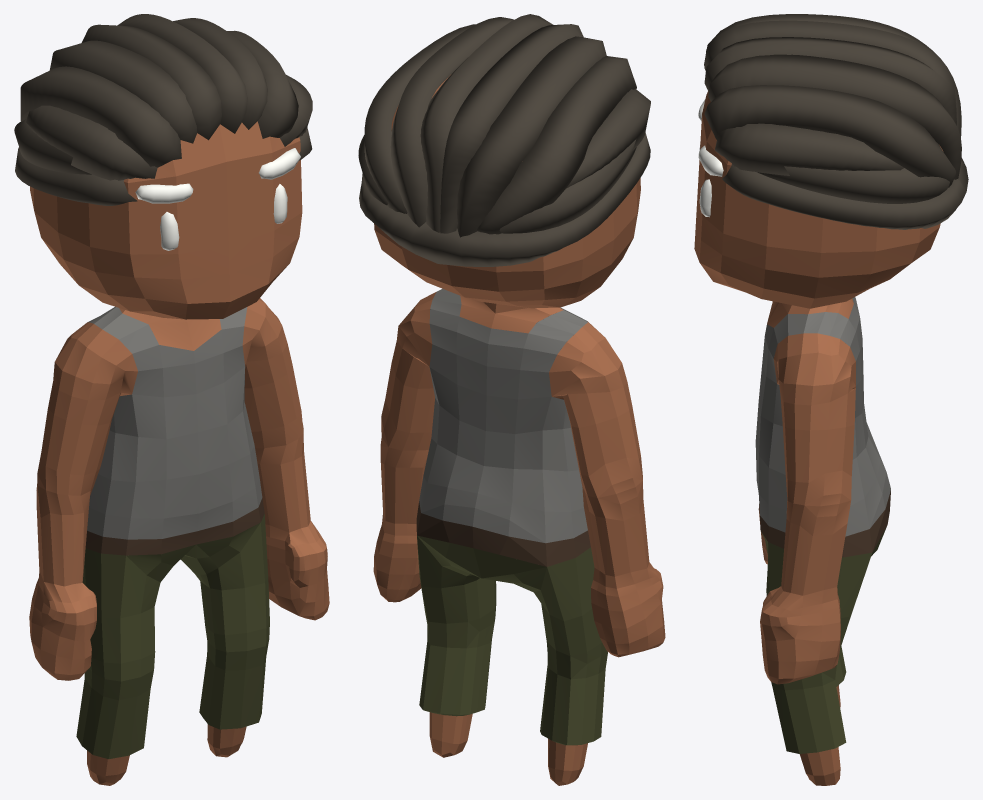
The model's file is debout-casual3-male.glb.
3 views of the same model, side by side, from view 1: azimuth 30°, elevation 25°; view 2: azimuth 150°, elevation 25°; view 3: azimuth 270°, elevation 25° (orthographic).
Visible parts, largest first — view 1: Cube004, Cube004_5, Cube004_1, Cube004_2, Cube004_3, Cube004_4; view 2: Cube004_5, Cube004, Cube004_1, Cube004_2, Cube004_3; view 3: Cube004_5, Cube004, Cube004_1, Cube004_2, Cube004_3, Cube004_4.
Boxes of the visible parts, x1,y1,x2,y2 form: Cube004: [29, 121, 329, 785]; Cube004_5: [14, 14, 312, 205]; Cube004_1: [87, 306, 262, 539]; Cube004_2: [76, 514, 269, 759]; Cube004_3: [85, 498, 264, 555]; Cube004_4: [135, 148, 300, 250]; Cube004_5: [358, 14, 650, 266]; Cube004: [373, 75, 665, 785]; Cube004_1: [419, 288, 587, 543]; Cube004_2: [417, 535, 607, 745]; Cube004_3: [416, 501, 590, 566]; Cube004_5: [704, 14, 968, 229]; Cube004: [694, 91, 943, 785]; Cube004_1: [755, 297, 890, 536]; Cube004_2: [761, 527, 886, 753]; Cube004_3: [760, 490, 890, 557]; Cube004_4: [698, 99, 723, 217].
Size of the model in its own units: 0.7047 by 1.73 by 0.5921.
